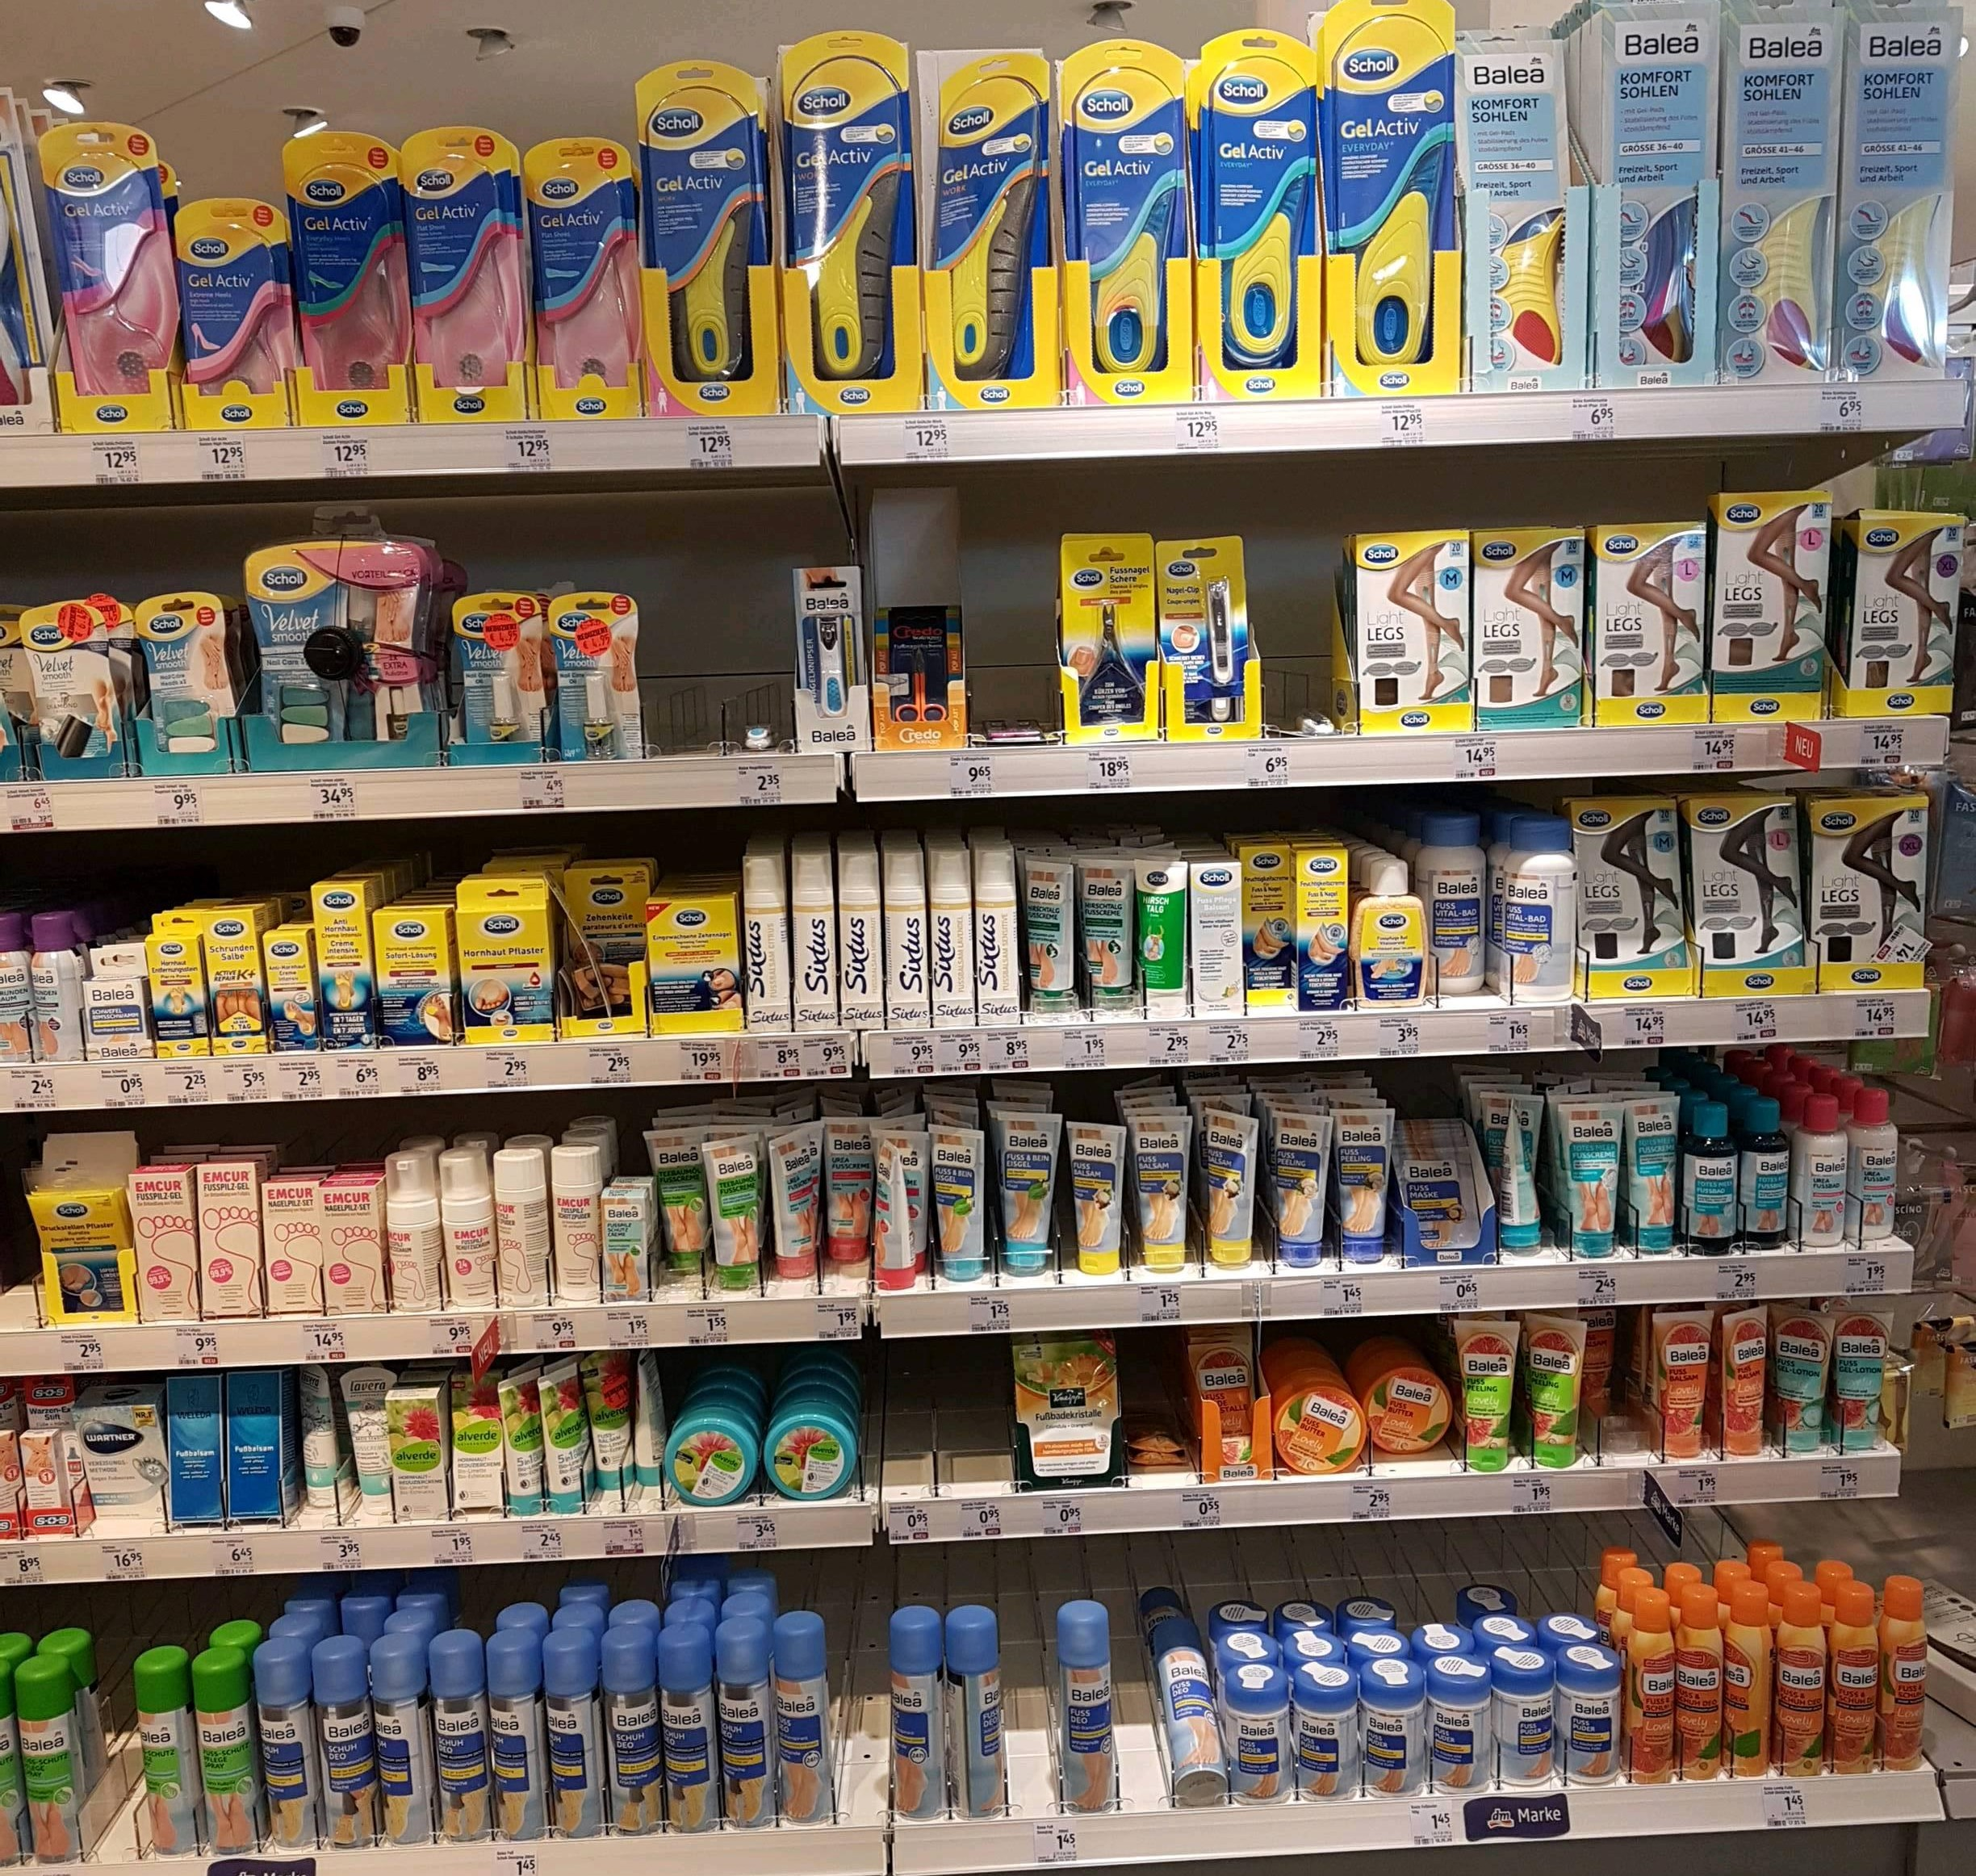empty: (883, 1345, 1010, 1488), (825, 1583, 890, 1818), (994, 1580, 1056, 1809), (642, 584, 721, 762), (85, 1670, 141, 1867), (1116, 1582, 1162, 1816)
misalignment: (543, 871, 635, 1035), (1169, 1576, 1225, 1809), (1491, 1107, 1551, 1266), (1259, 696, 1341, 748), (1123, 1419, 1192, 1476), (975, 714, 1061, 753), (721, 725, 797, 749)
